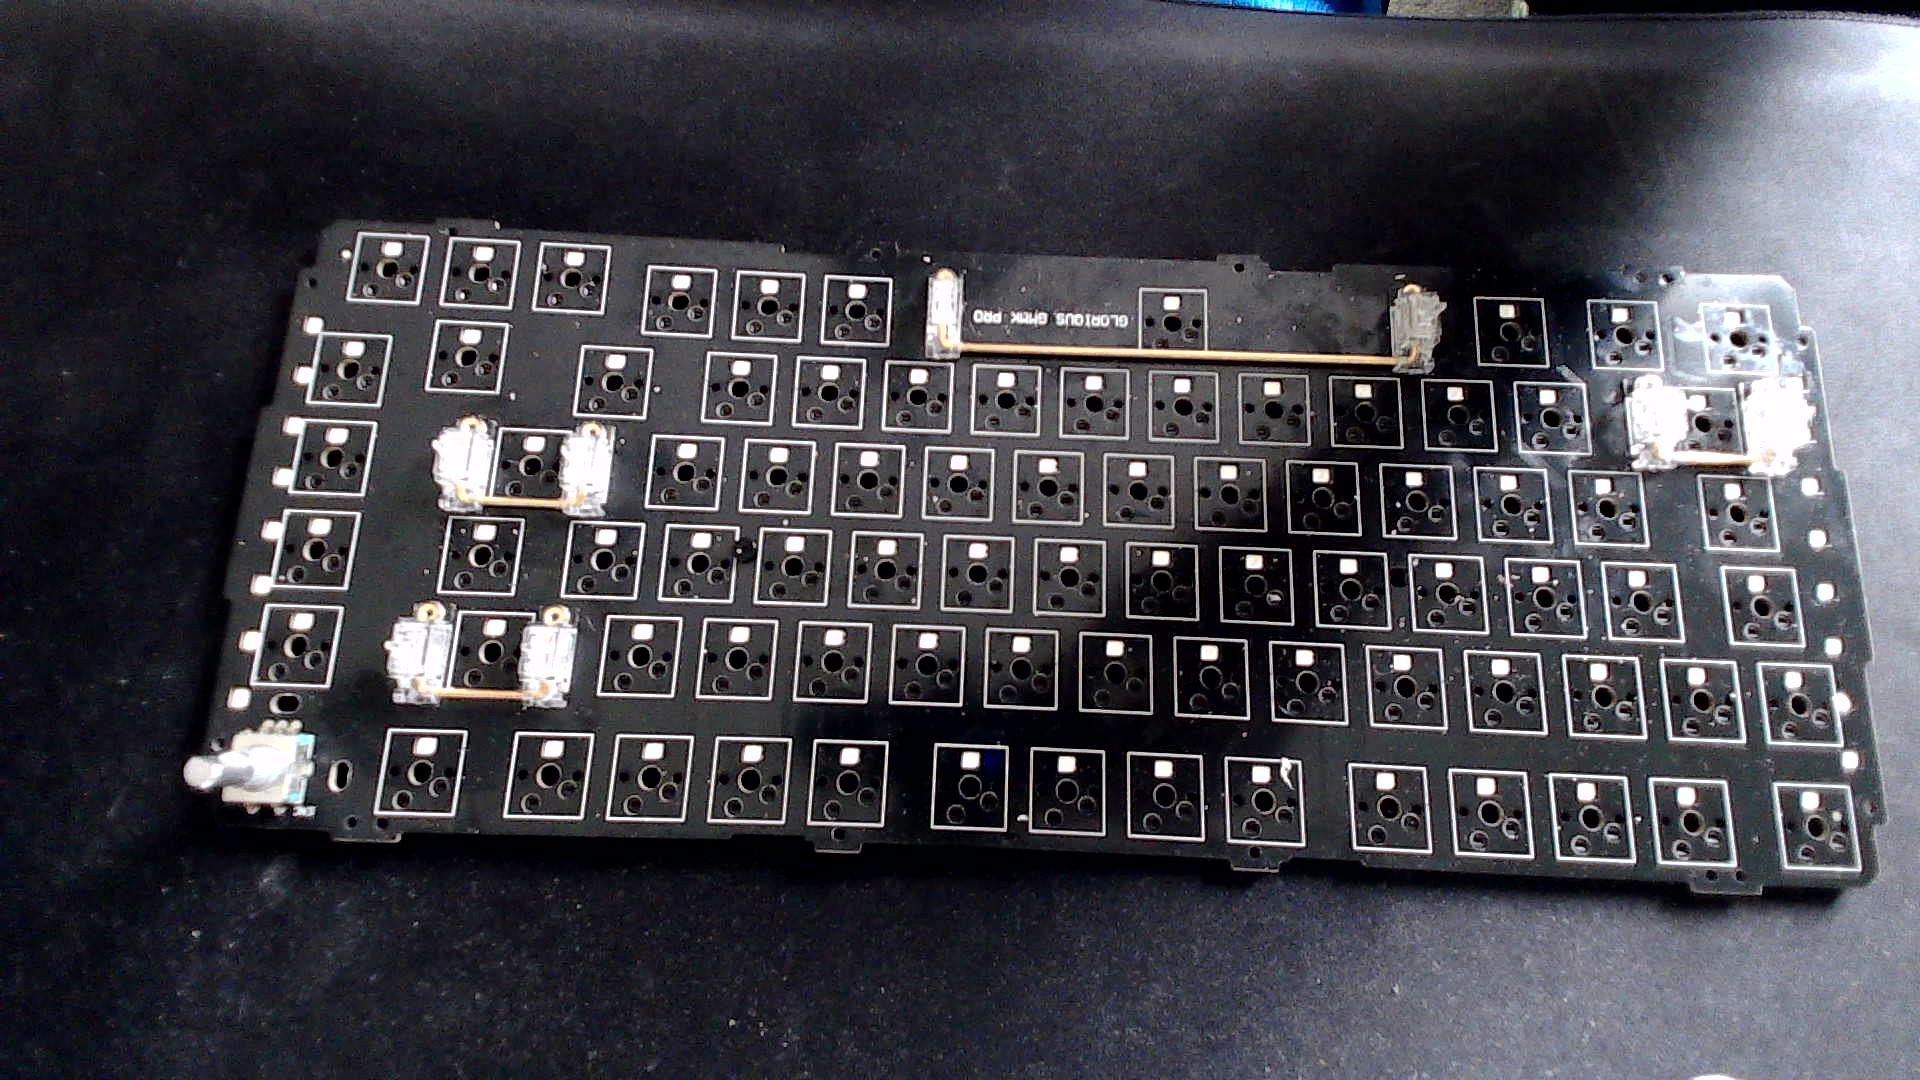pcb: (148, 181, 1908, 935)
